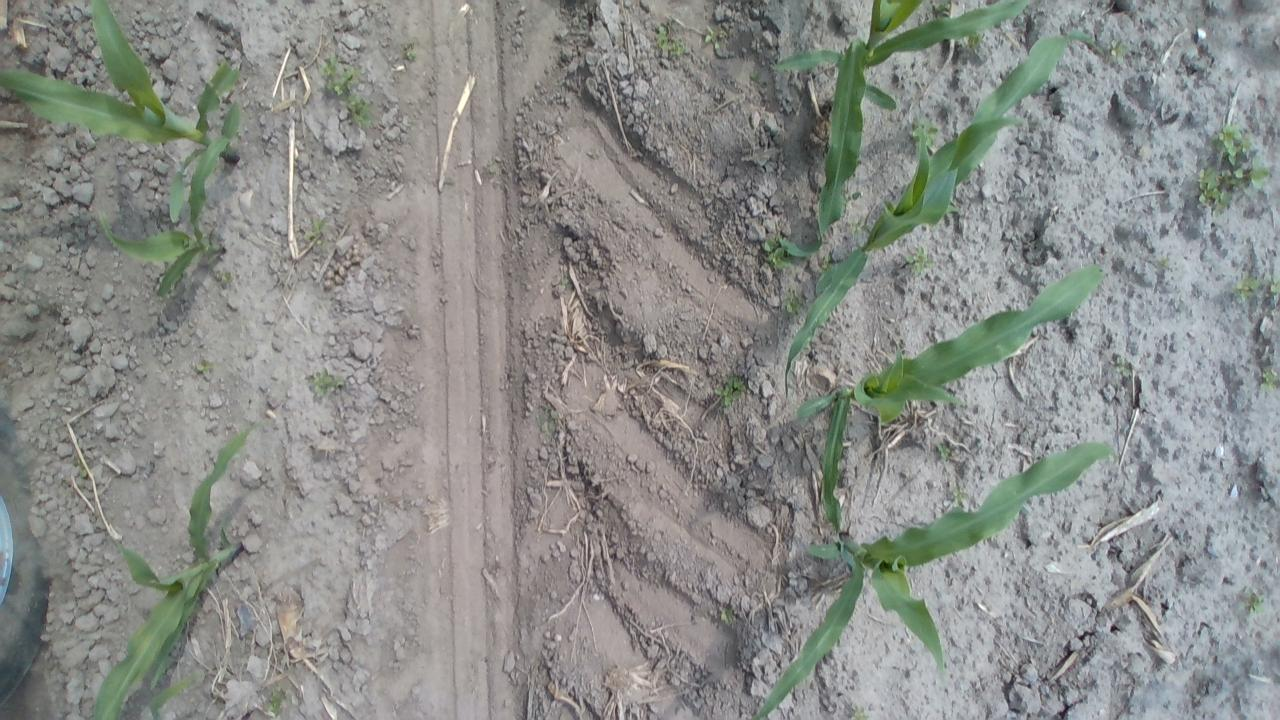Maize: (772, 23, 1102, 409), (748, 420, 1132, 720), (782, 255, 1112, 544), (766, 8, 1078, 254), (84, 412, 266, 720), (0, 0, 242, 215), (778, 0, 1052, 136), (94, 102, 248, 306), (147, 668, 221, 720)
Weeds: (1192, 126, 1270, 216), (317, 56, 366, 100), (758, 229, 794, 270), (307, 366, 349, 401), (906, 113, 942, 153), (651, 19, 687, 59), (902, 243, 938, 282), (342, 94, 377, 132), (714, 371, 748, 410), (259, 684, 292, 718), (536, 400, 562, 440), (300, 214, 328, 250), (1239, 586, 1268, 619), (701, 22, 730, 52), (1234, 272, 1262, 301), (956, 30, 984, 56), (1106, 38, 1130, 66), (784, 292, 806, 320), (847, 213, 871, 238), (72, 460, 94, 487), (1258, 364, 1278, 393), (191, 357, 217, 378), (844, 702, 875, 719), (483, 156, 506, 178), (1114, 354, 1134, 378), (214, 266, 237, 286), (718, 607, 738, 629), (818, 251, 838, 273), (842, 190, 864, 209), (1264, 272, 1278, 300), (951, 487, 968, 507), (404, 47, 423, 64), (936, 441, 950, 461), (1158, 255, 1175, 270), (748, 69, 758, 80)
